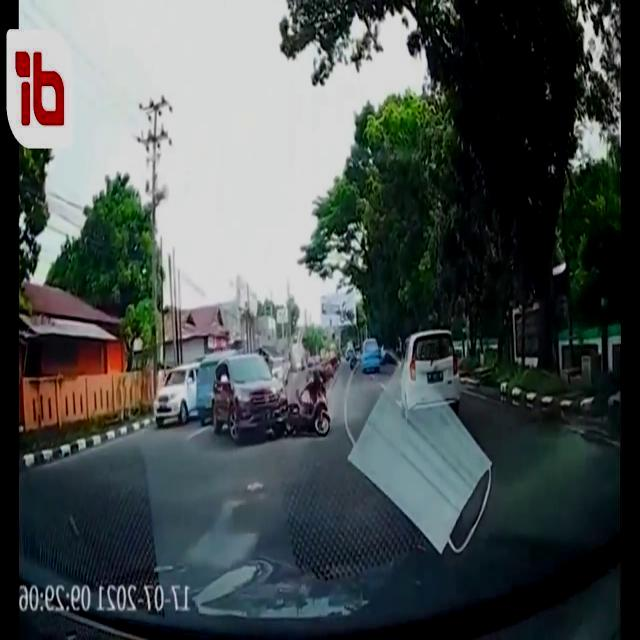accident: (212, 354, 332, 446)
non-accident: (272, 344, 308, 386), (348, 338, 380, 376)
